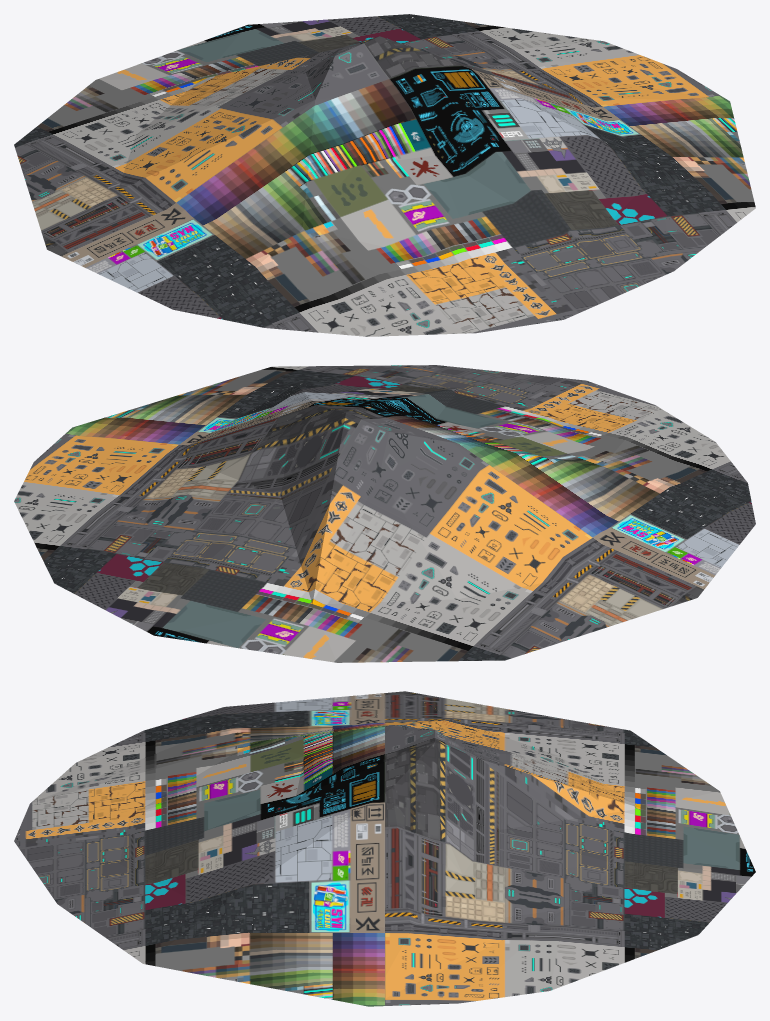
File: worlds_SM_Env_Ground_Junk_02.gltf
3 renders of one model, top to bottom at view 1: azimuth 30°, elevation 25°; view 2: azimuth 150°, elevation 25°; view 3: azimuth 270°, elevation 25°, orthographic. The views are drawn at different scales.
Parts seen in each view (by area): view 1: SM_Env_Ground_Junk_02; view 2: SM_Env_Ground_Junk_02; view 3: SM_Env_Ground_Junk_02.
Boxes of the visible parts, left/top/right/bottom form: SM_Env_Ground_Junk_02: left=14, top=14, right=755, bottom=336; SM_Env_Ground_Junk_02: left=14, top=365, right=755, bottom=662; SM_Env_Ground_Junk_02: left=14, top=691, right=755, bottom=1006.
Bounding box in the file's own units: 34.51 × 5.83 × 34.31.
1 material, 1 textured.
